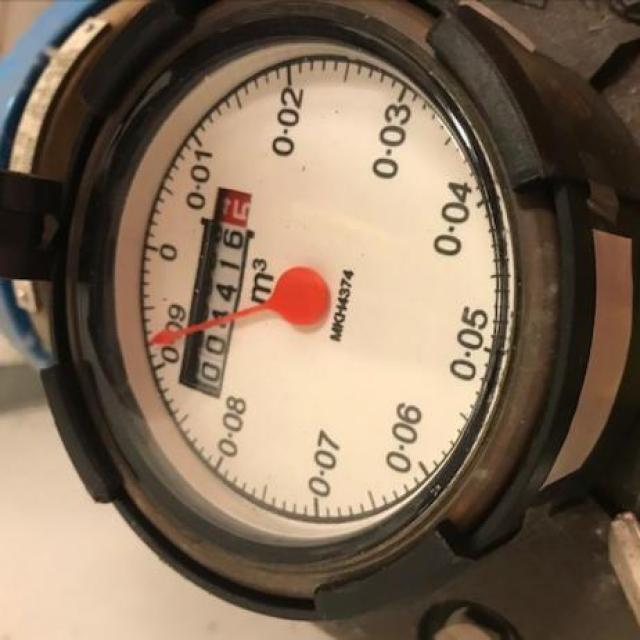gaz_meter: (107, 43, 519, 552)
indication: (176, 184, 260, 400)
